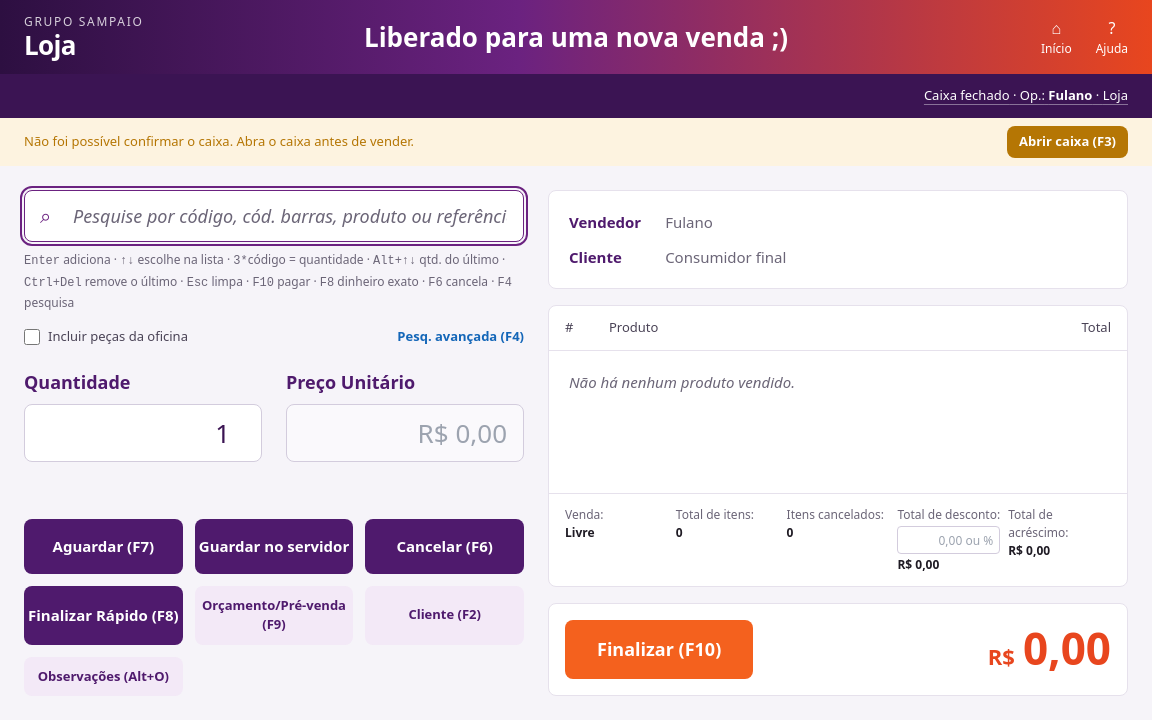
Test: o balcão vê e gasta o vale › cliente sem saldo também não vê o bloco
Type "7890000002222" into the field labelled "Pesquise por código, cód. barras, produto ou referência" at (274, 216), box [24,190,524,242]
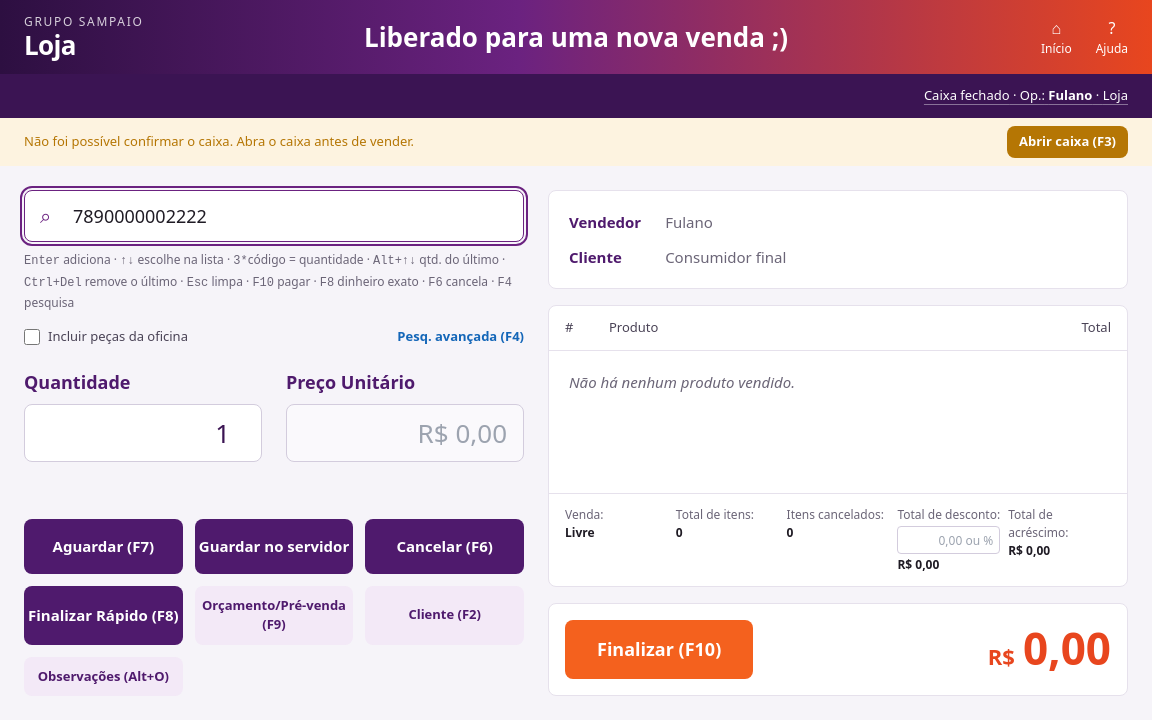
Press Enter in the field named "Pesquise por código", box [24,190,524,242]
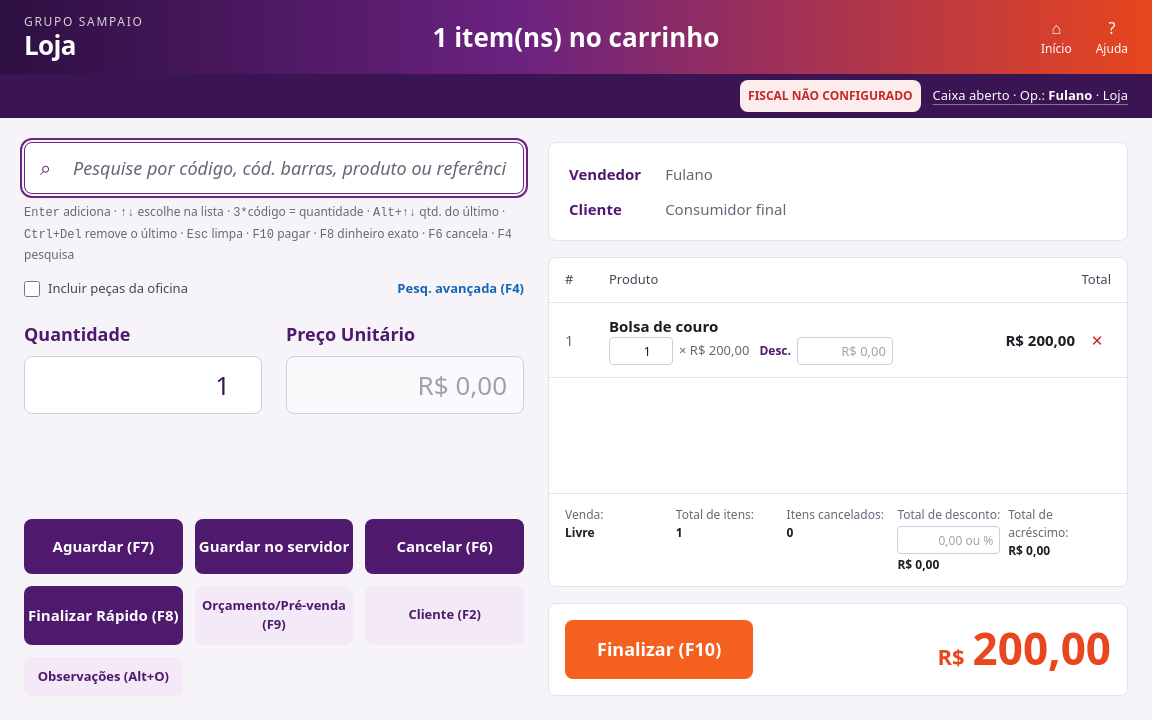
Now the button named "Remover " is shown, box [1083,324,1111,356]
Click the button "Cliente (F2)" at (445, 615), box [365,586,524,644]
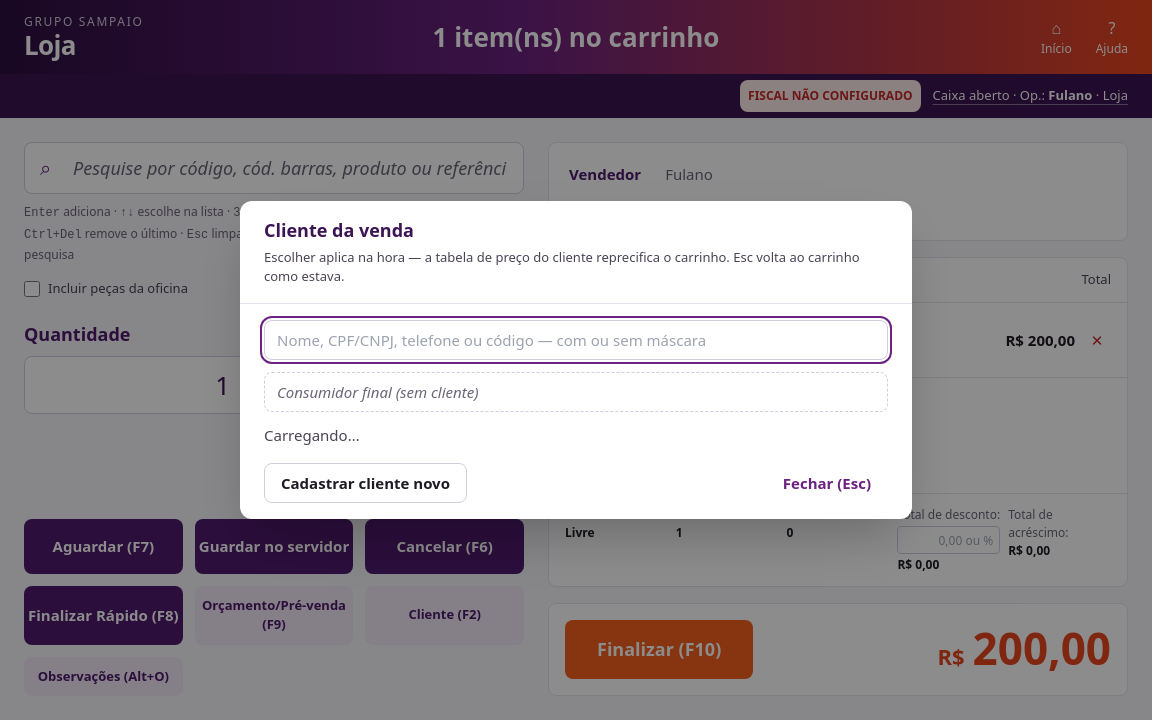
Type "João Sem Vale" into the field named "Buscar cliente" at (576, 340), box [264,320,888,360]
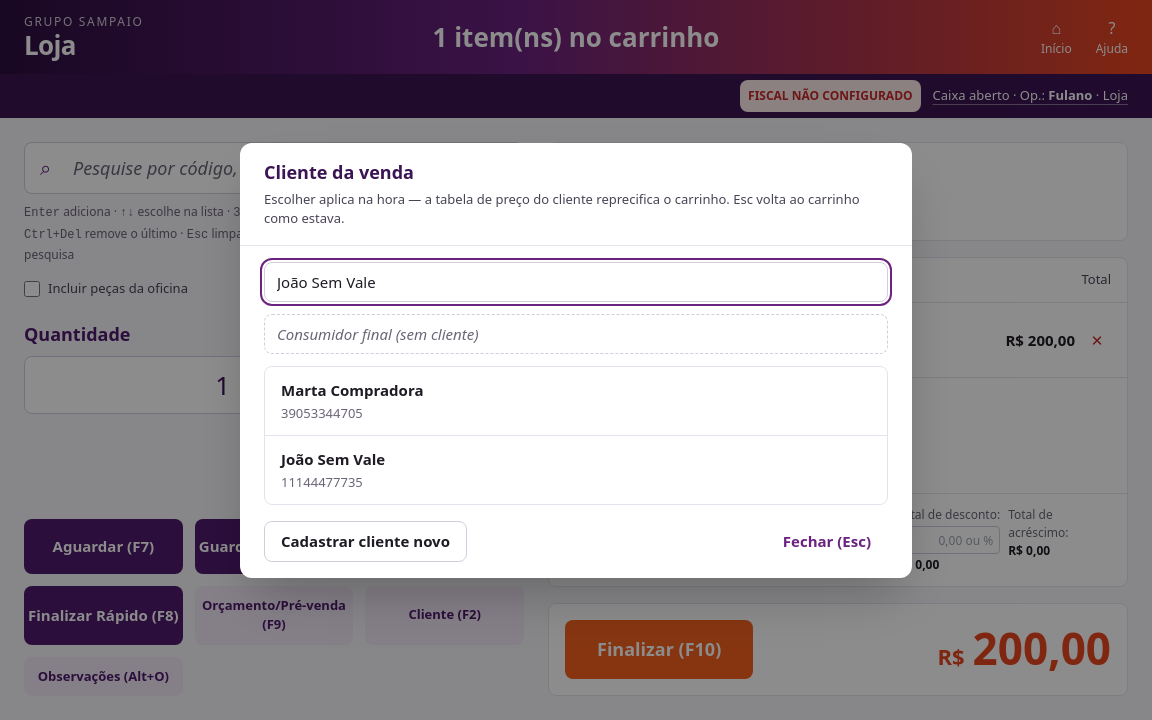
Click the button "João Sem Vale 11144477735" at (333, 459), box [265,436,887,504]
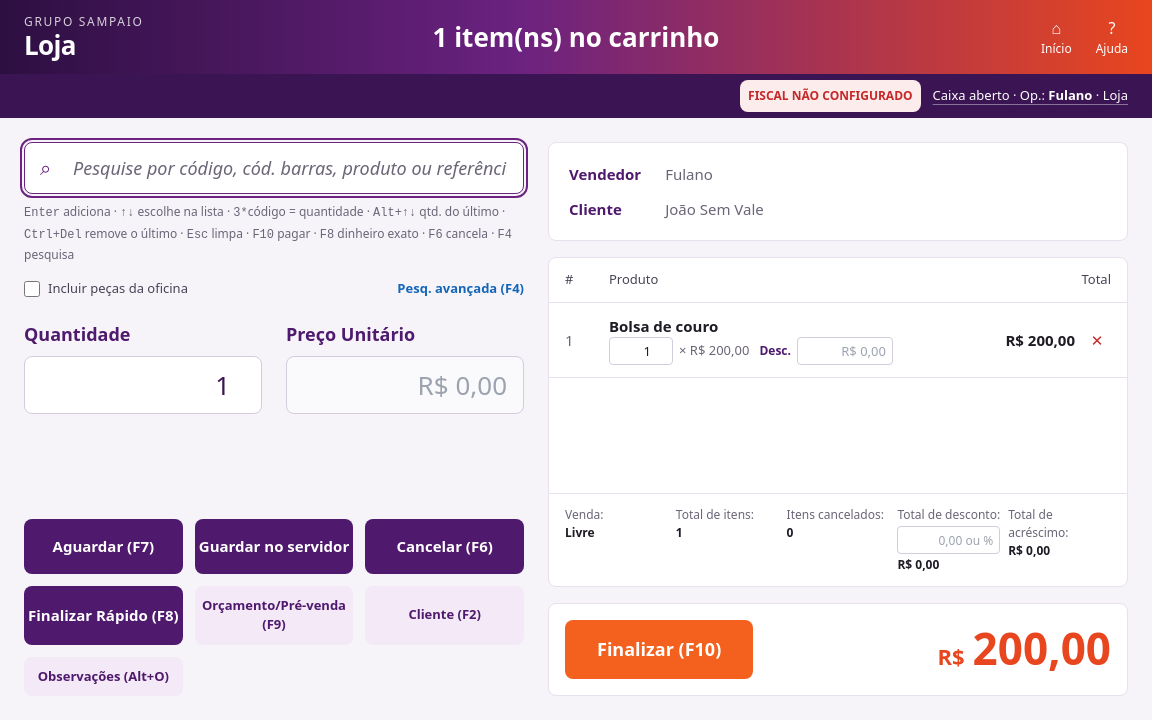
Click the button "Finalizar (F10)" at (659, 650), box [565,620,753,679]
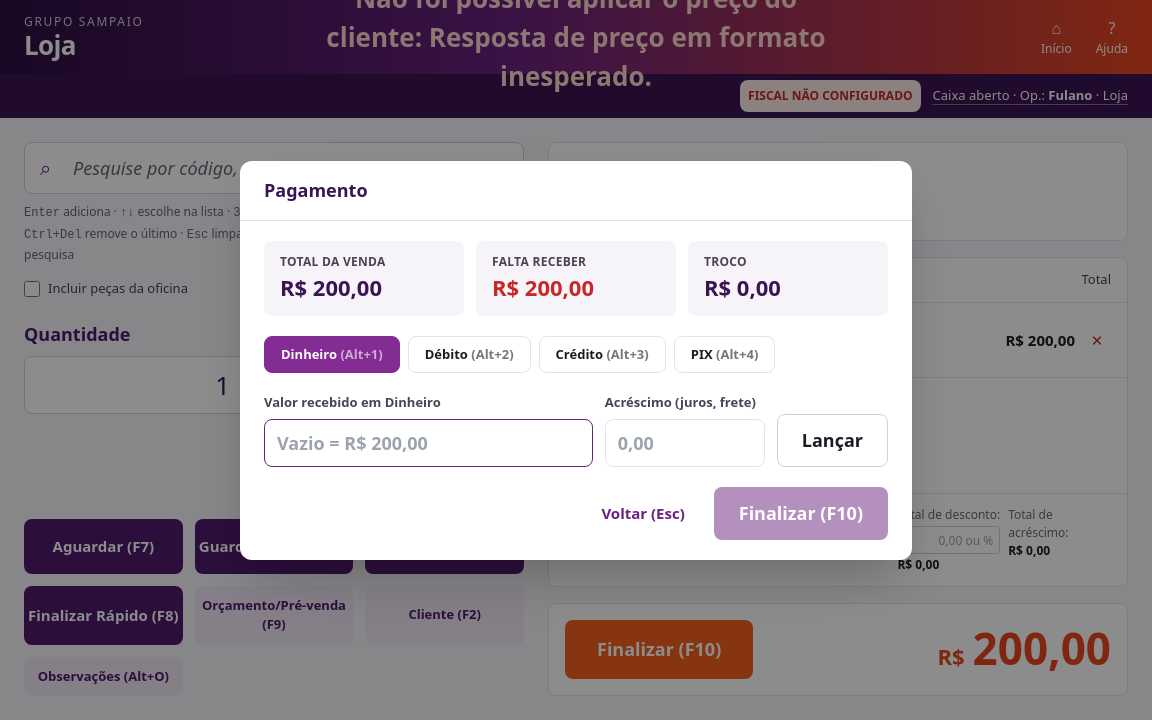
Now the dialog "Pagamento" is shown
